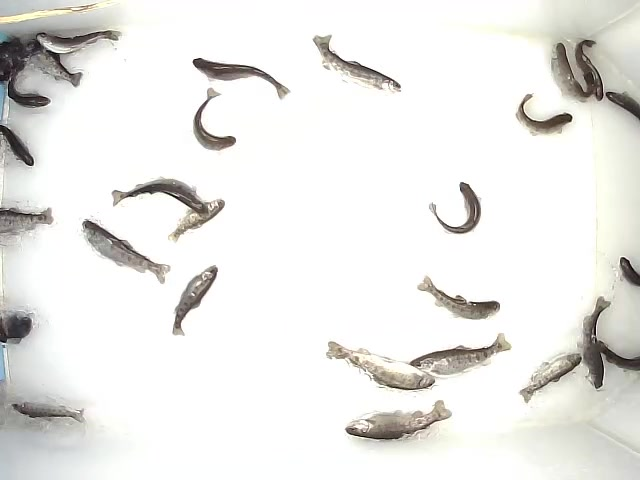fish: (80, 218, 173, 285), (324, 340, 436, 392), (312, 34, 403, 96), (407, 329, 513, 379), (344, 398, 453, 441), (110, 175, 213, 220), (191, 56, 291, 101), (416, 273, 501, 321), (517, 351, 583, 405), (577, 294, 613, 393), (171, 264, 219, 337), (428, 180, 484, 237), (25, 39, 83, 89), (192, 87, 237, 151), (515, 92, 574, 138), (551, 42, 594, 104), (167, 198, 226, 243), (35, 29, 124, 55), (574, 38, 605, 107), (6, 67, 53, 111), (10, 401, 87, 426), (1, 205, 54, 240), (596, 338, 640, 375), (1, 122, 35, 168), (606, 88, 640, 123), (619, 255, 640, 289)
